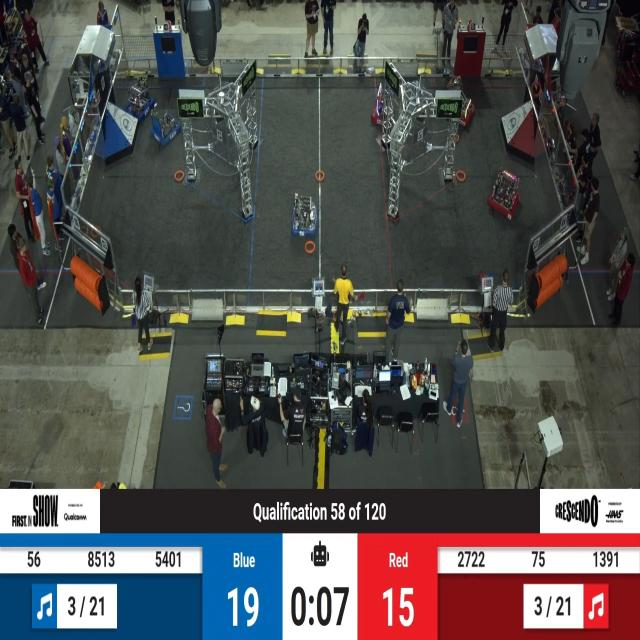Robot: (441, 67, 479, 136), (368, 75, 401, 134), (486, 165, 521, 219), (291, 191, 322, 243), (151, 95, 181, 148), (128, 72, 157, 122)
